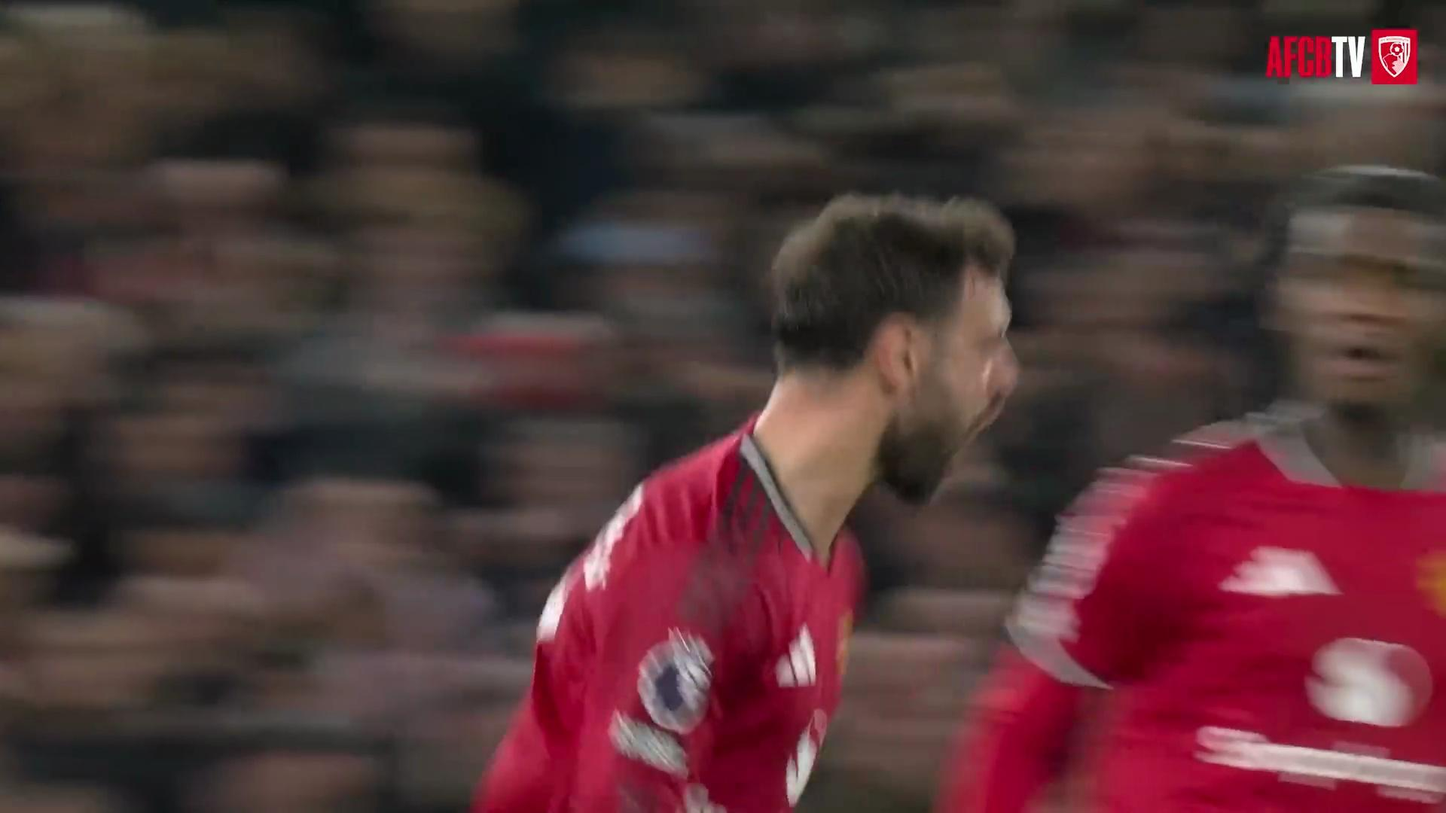player: (473, 196, 1016, 812), (938, 167, 1445, 812)
